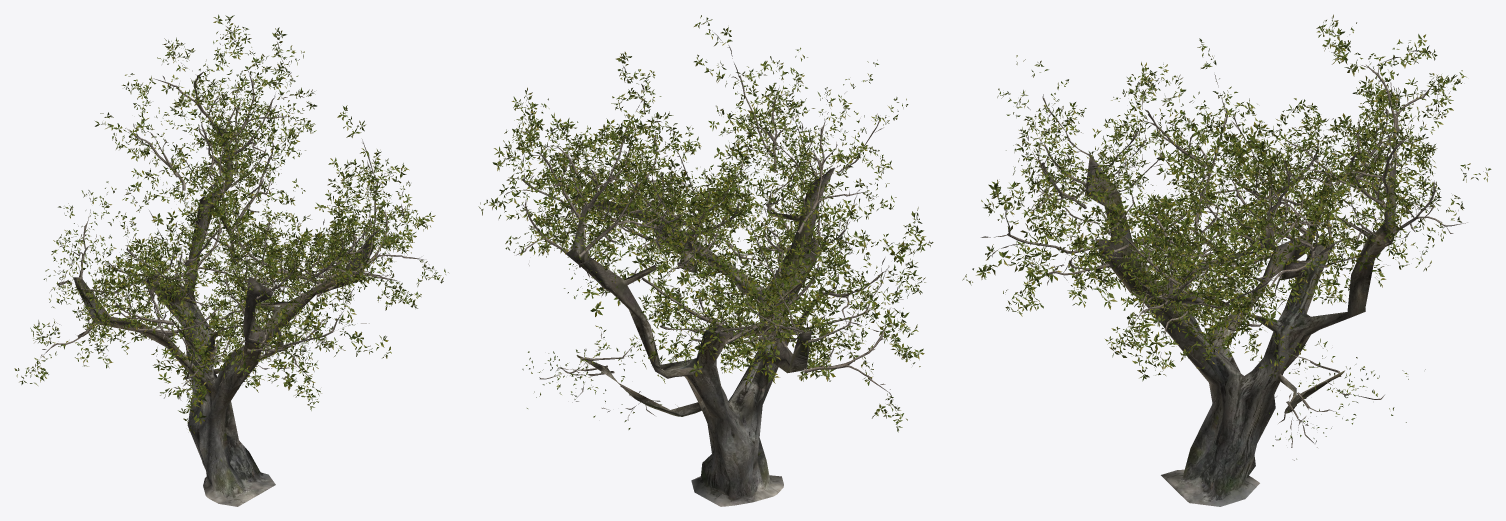
File: island_tree_01.glb
3 views of the same model, side by side, from view 1: azimuth 30°, elevation 25°; view 2: azimuth 150°, elevation 25°; view 3: azimuth 270°, elevation 25° (orthographic). The views are drawn at different scales.
Parts seen in each view (by area): view 1: island_tree_01_LOD0; view 2: island_tree_01_LOD0; view 3: island_tree_01_LOD0.
Boxes of the visible parts, left/top/right/bottom form: island_tree_01_LOD0: left=14, top=14, right=448, bottom=506; island_tree_01_LOD0: left=478, top=15, right=933, bottom=506; island_tree_01_LOD0: left=962, top=14, right=1491, bottom=506.
Size of the model in its own units: 4.74 by 5.02 by 4.81.
Materials: 3 (3 with a texture image).
